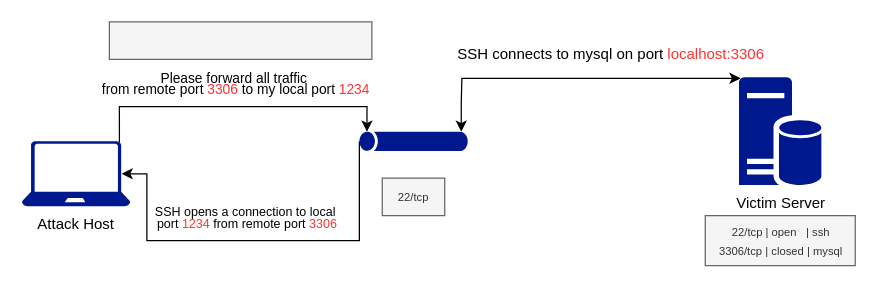
Some shapes in this 878 by 288 pixel diagram are drawn without their labels. Each missing label, with the box of its shape:
ssh -L 1234:localhost:3306 victim@x.x.x.x: (108, 21, 372, 59)
SSH Service: (359, 131, 467, 150)
